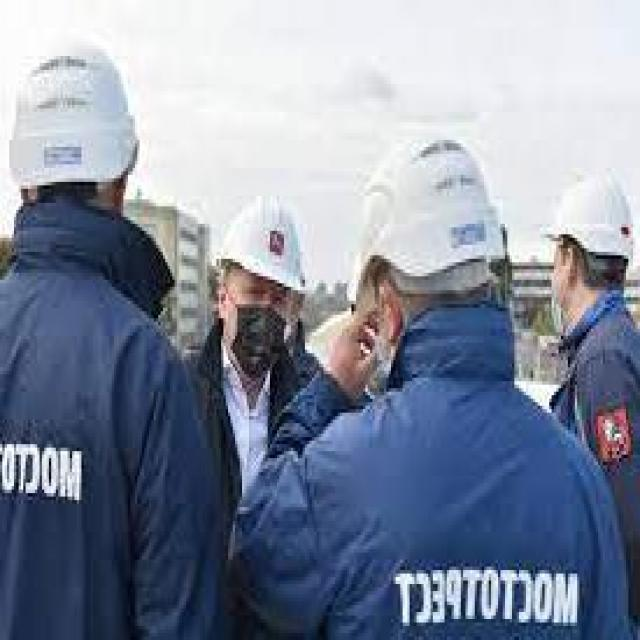Safety-Helmet: (349, 119, 524, 301), (0, 28, 161, 206), (209, 182, 319, 308), (537, 157, 640, 269)
